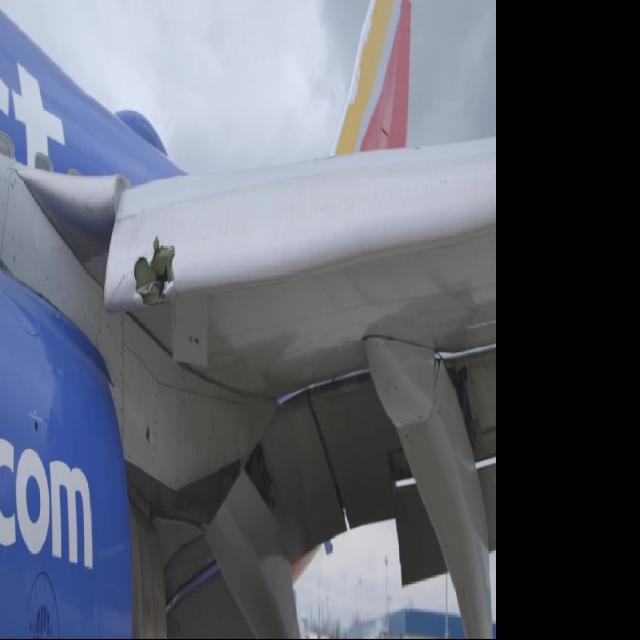crack: (134, 238, 180, 307)
